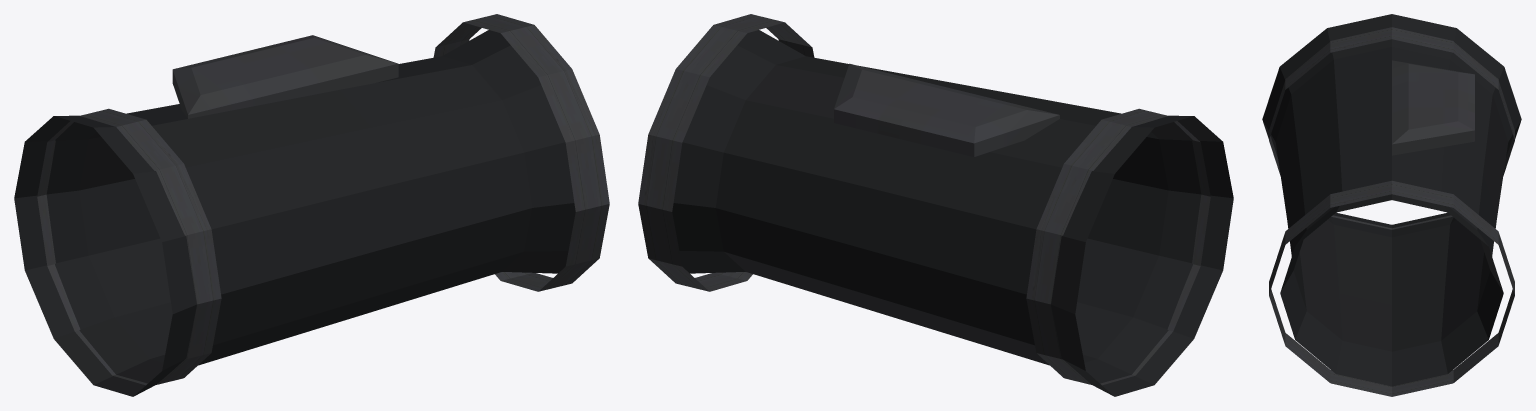
Rendered from eq_present_3_arm.glb.
3 renders of one model, left to right at view 1: azimuth 30°, elevation 25°; view 2: azimuth 150°, elevation 25°; view 3: azimuth 270°, elevation 25°, orthographic. The views are drawn at different scales.
Parts seen in each view (by area): view 1: eq_present_3_arm; view 2: eq_present_3_arm; view 3: eq_present_3_arm.
Boxes of the visible parts, box(x1,y1,x2,y2) form: eq_present_3_arm: box(14, 14, 609, 396); eq_present_3_arm: box(638, 14, 1233, 396); eq_present_3_arm: box(1262, 14, 1521, 396).
Size of the model in its own units: 0.2516 by 0.1404 by 0.1566.
2 materials, 2 textured.
